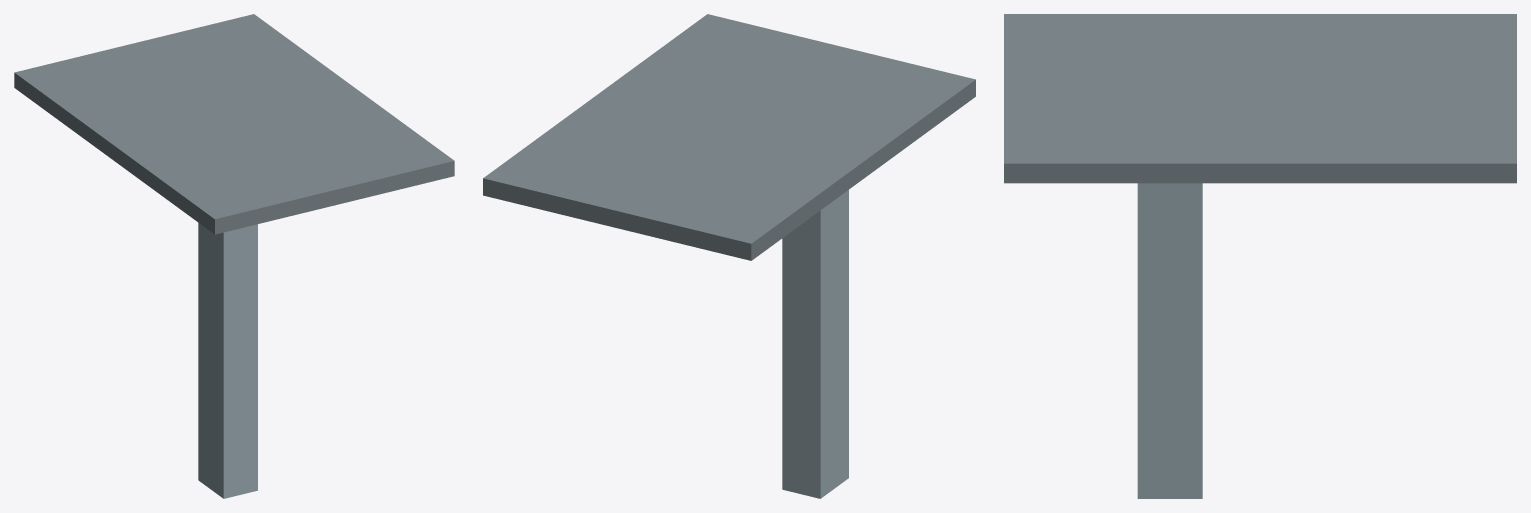
File: stool.glb
3 renders of one model, left to right at view 1: azimuth 30°, elevation 25°; view 2: azimuth 150°, elevation 25°; view 3: azimuth 270°, elevation 25°, orthographic. The views are drawn at different scales.
Visible parts, largest first — view 1: stool-col; view 2: stool-col; view 3: stool-col.
Boxes of the visible parts, <box> form: stool-col: <box>14,14,454,498</box>; stool-col: <box>483,14,975,498</box>; stool-col: <box>1004,14,1516,498</box>.
Bounding box in the file's own units: 0.49 × 0.65 × 0.71.
